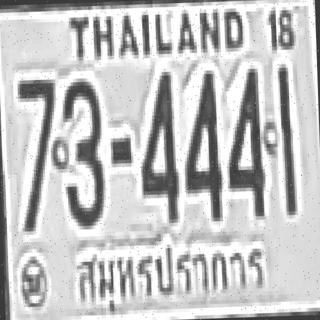N01: (276, 60, 293, 215)
N03: (55, 74, 102, 226)
N04: (137, 68, 178, 220), (180, 66, 221, 218), (224, 65, 264, 217)
N07: (15, 78, 58, 230), (15, 76, 56, 184)
P57: (71, 237, 270, 320)
